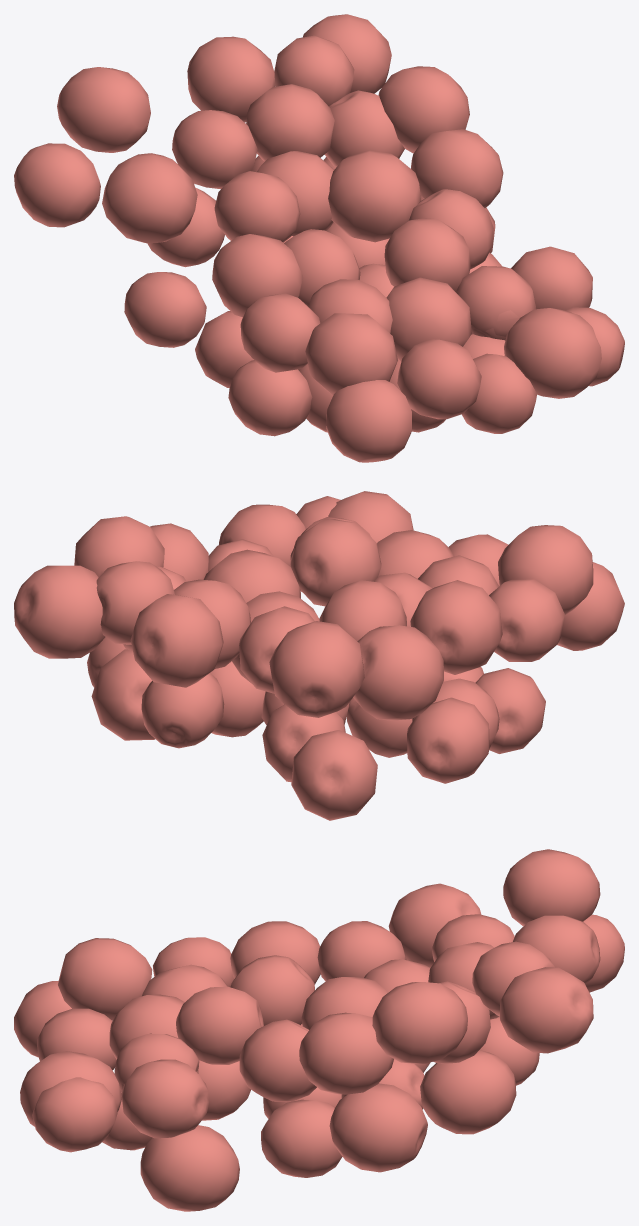
The model's file is apples.fbx.
3 renders of one model, top to bottom at view 1: azimuth 30°, elevation 25°; view 2: azimuth 150°, elevation 25°; view 3: azimuth 270°, elevation 25°, orthographic. The views are drawn at different scales.
Parts seen in each view (by area): view 1: Sphere.058; view 2: Sphere.058; view 3: Sphere.058.
Boxes of the visible parts, x1,y1,x2,y2 form: Sphere.058: (14,14,624,462); Sphere.058: (14,491,624,820); Sphere.058: (14,849,624,1211).
Size of the model in its own units: 35.88 by 23.02 by 53.9.
